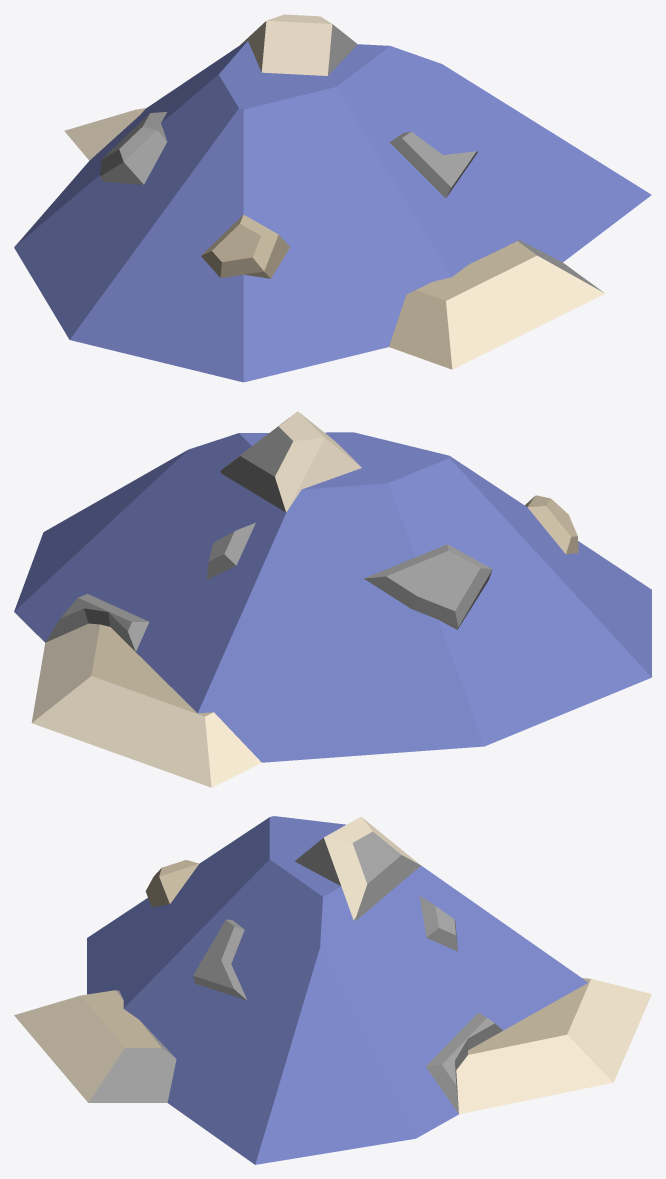
File: jeg_asvany.glb
3 views of the same model, one above another, from view 1: azimuth 30°, elevation 25°; view 2: azimuth 150°, elevation 25°; view 3: azimuth 270°, elevation 25° (orthographic). The views are drawn at different scales.
Visible parts, largest first — view 1: jeg_asvany; view 2: jeg_asvany; view 3: jeg_asvany.
Boxes of the visible parts, x1,y1,x2,y2 form: jeg_asvany: (14, 14, 651, 382); jeg_asvany: (14, 411, 651, 787); jeg_asvany: (14, 816, 651, 1164).
Bounding box in the file's own units: 17.26 × 6 × 17.46.
